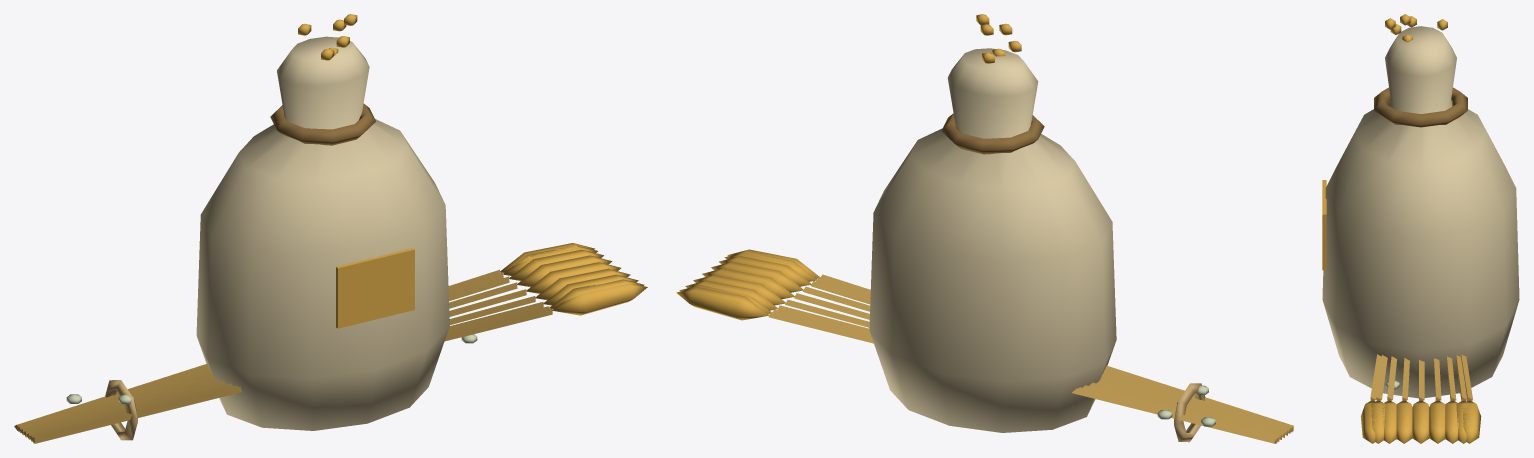
File: Grain_Wheat.fbx
The picture shows the model from 3 angles, left to right: view 1: azimuth 30°, elevation 25°; view 2: azimuth 150°, elevation 25°; view 3: azimuth 270°, elevation 25°; orthographic projection. The views are drawn at different scales.
Visible parts, largest first — view 1: Grain_Wheat__Stack, Grain_Wheat; view 2: Grain_Wheat__Stack, Grain_Wheat; view 3: Grain_Wheat__Stack, Grain_Wheat.
Boxes of the visible parts, <box> form: Grain_Wheat__Stack: <box>196,14,449,430</box>; Grain_Wheat: <box>14,243,647,443</box>; Grain_Wheat__Stack: <box>869,14,1116,432</box>; Grain_Wheat: <box>676,249,1293,443</box>; Grain_Wheat__Stack: <box>1322,14,1519,398</box>; Grain_Wheat: <box>1360,354,1481,443</box>.
Bounding box in the file's own units: 0.3101 × 0.188 × 0.096.
